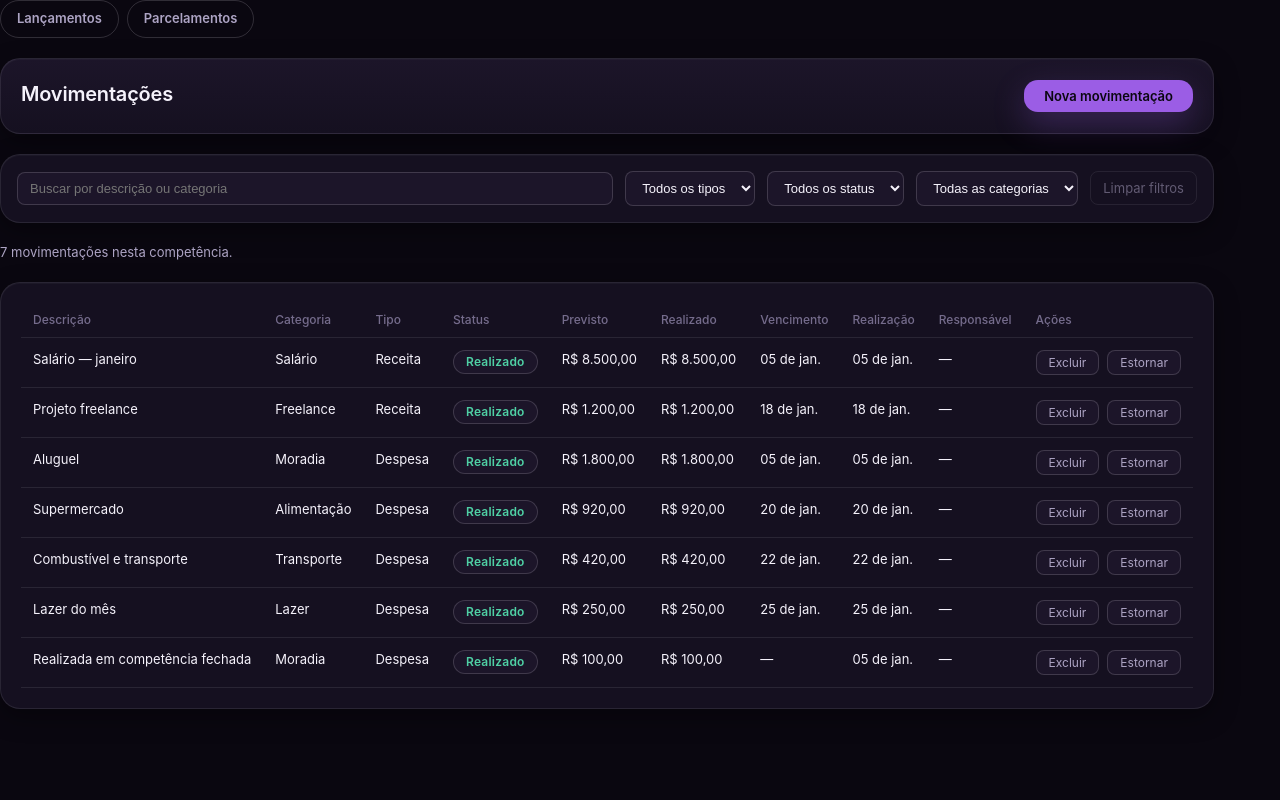
Test: FinancialEntriesPage — exclusão real de lançamentos (Bloco 20) › exclusão de uma movimentação realizada em competência fechada continua bloqueada (item 4 da correção pós-revisão)
Step 1. Click the button "Excluir" in the row of "Realizada em competência fechada" → (1068, 662), box [1036, 650, 1099, 675]
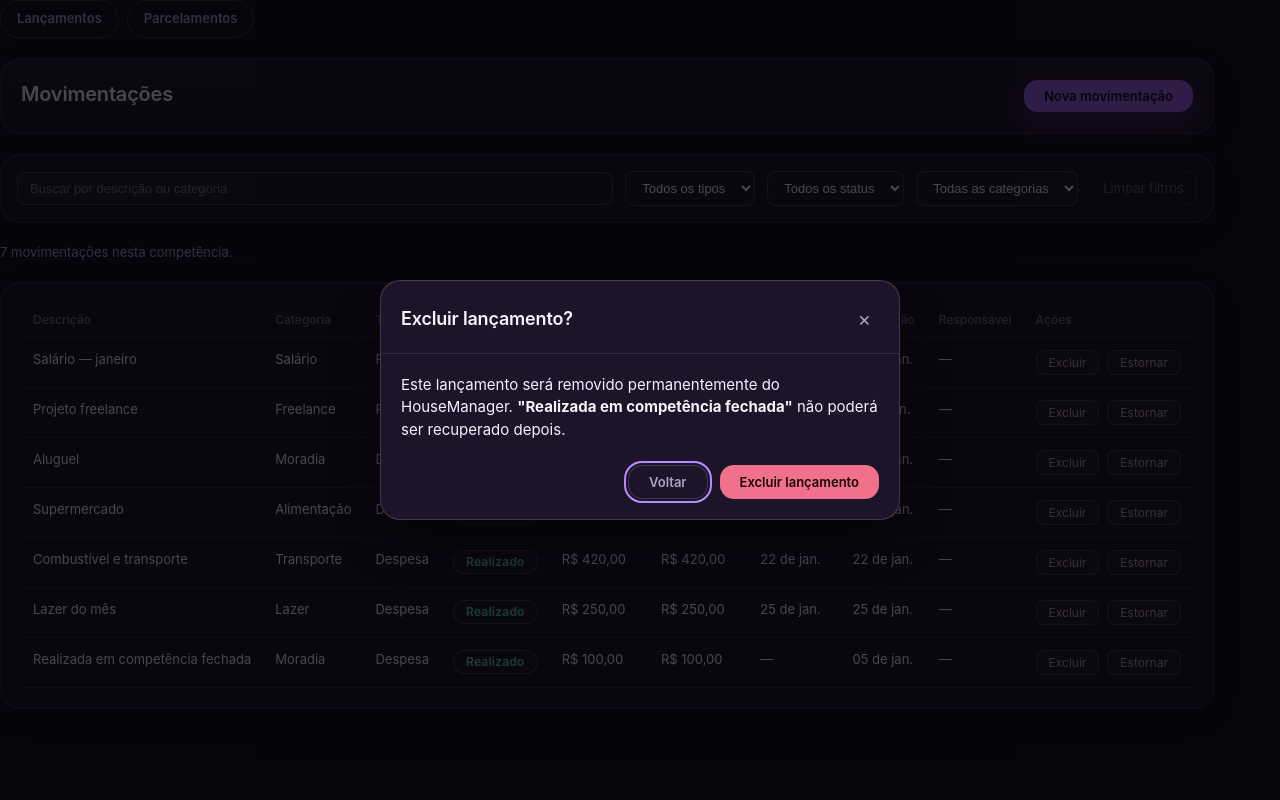
Step 2. Click the button "Excluir lançamento" → (799, 482), box [720, 465, 879, 499]
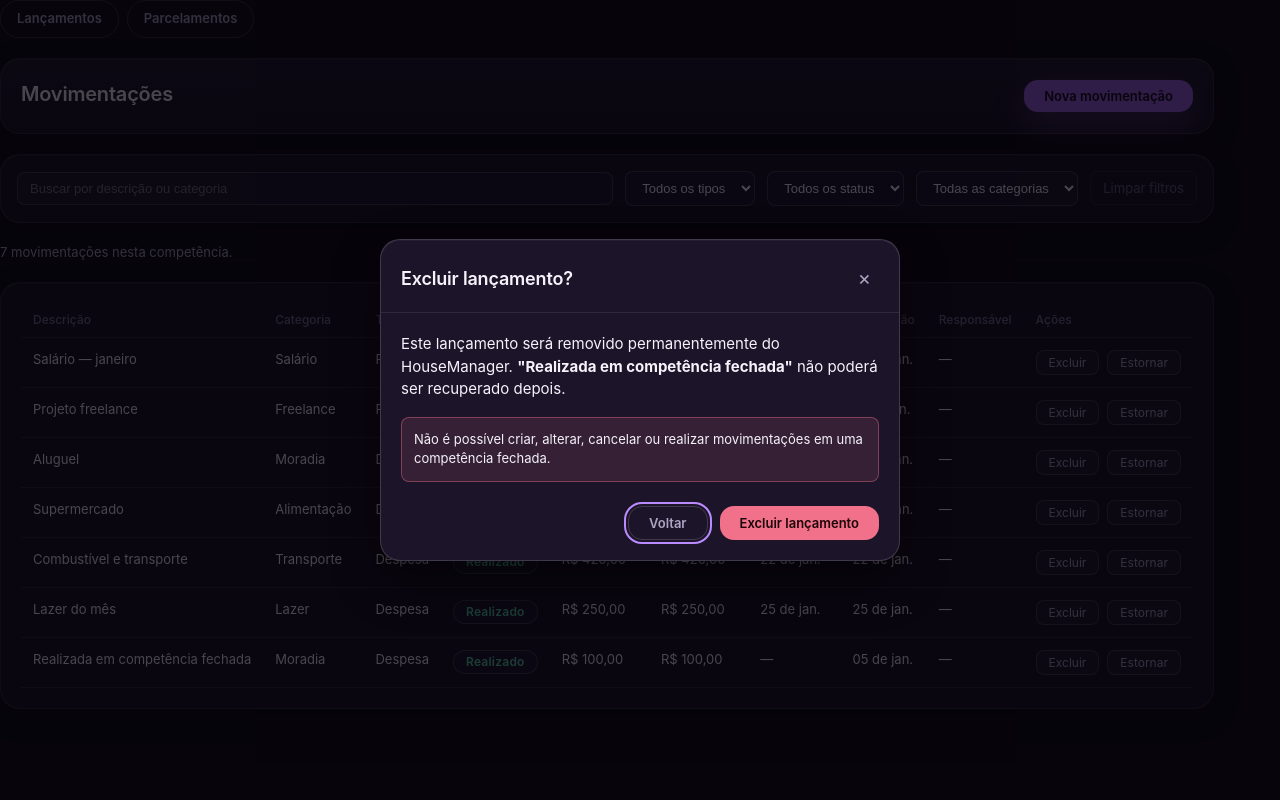
Expected: the text "Realizada em competência fechada" is shown, [33, 650, 251, 670]
Result: the dialog is shown at [380, 239, 900, 561]
Result: the message is shown at [401, 417, 879, 482]
